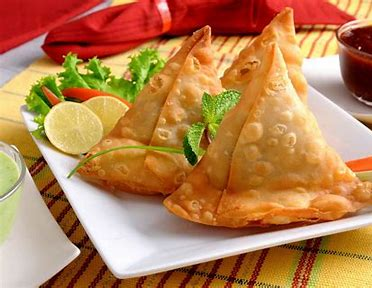inorganic: (72, 10, 360, 224), (24, 79, 119, 128), (330, 18, 372, 90)
organic: (22, 203, 270, 279), (2, 143, 59, 265), (316, 91, 372, 144), (332, 29, 368, 85)
